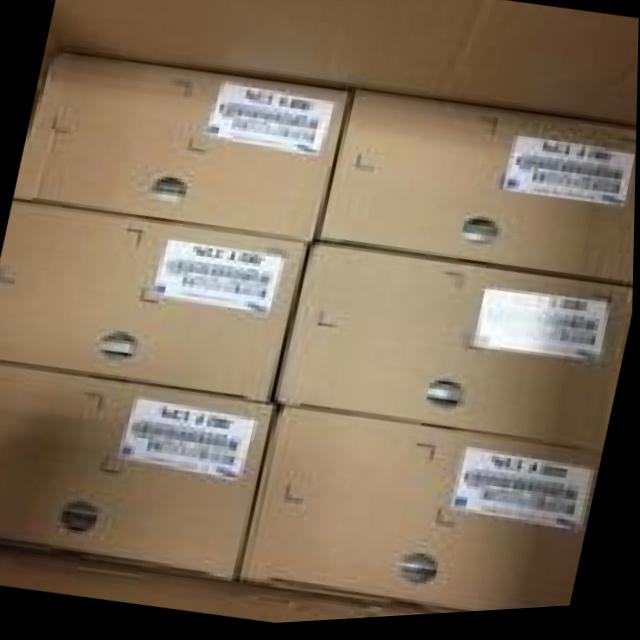box: (242, 410, 605, 619), (279, 245, 634, 458), (14, 53, 352, 245), (0, 201, 313, 406), (317, 94, 637, 293), (0, 363, 279, 585)
